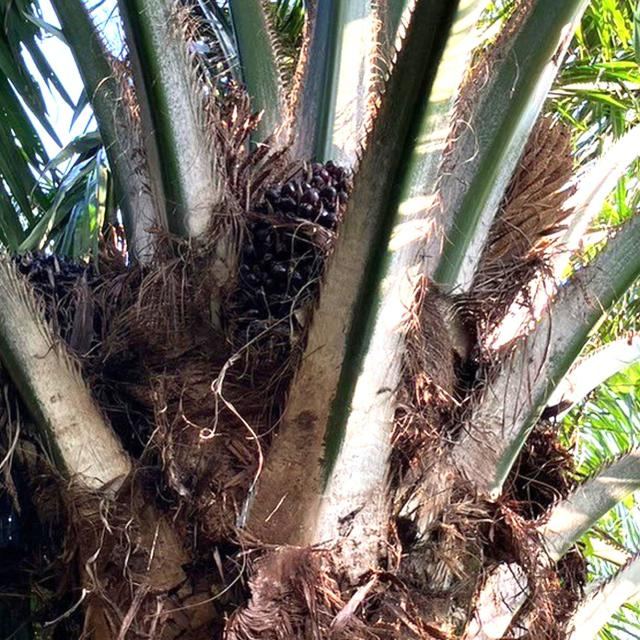almost: (238, 148, 362, 328)
